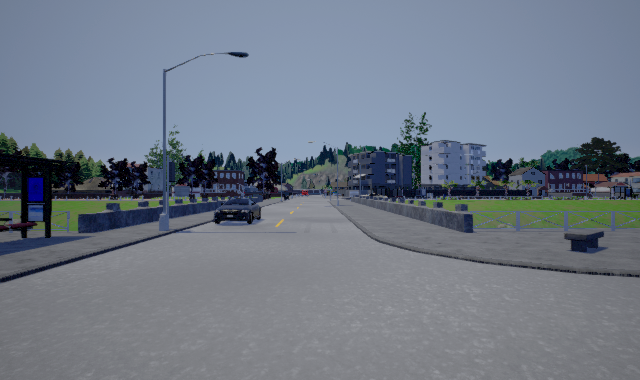vehicle: (213, 198, 261, 224)
